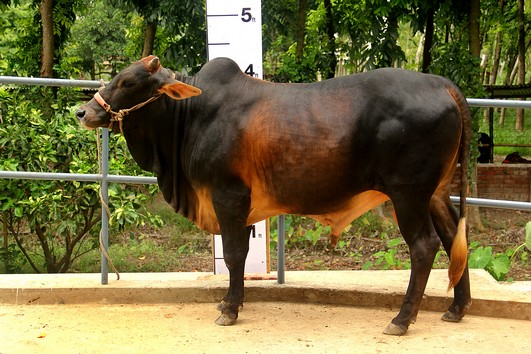cow: (71, 45, 483, 339)
